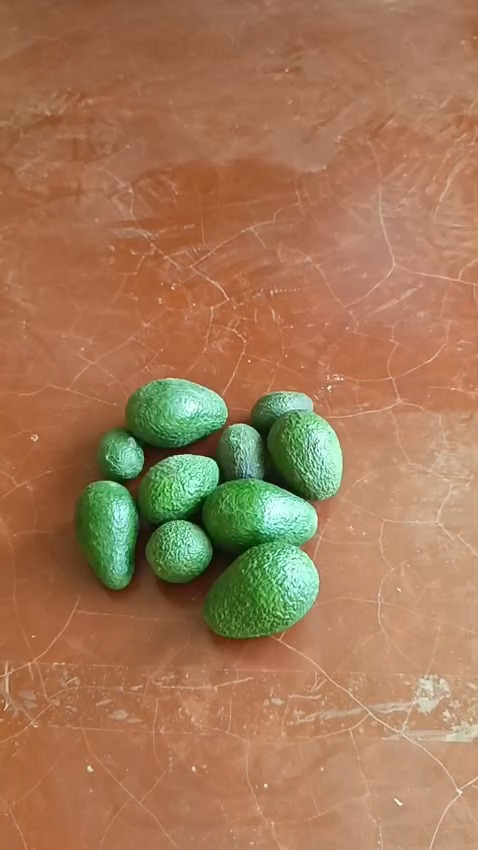Primera: (204, 541, 319, 637), (201, 478, 316, 553), (125, 377, 229, 448), (266, 410, 343, 499)
Segunda: (75, 480, 141, 590), (137, 454, 220, 525)
Tercera: (143, 516, 215, 584), (215, 423, 268, 483), (250, 390, 315, 432), (96, 427, 145, 481)
